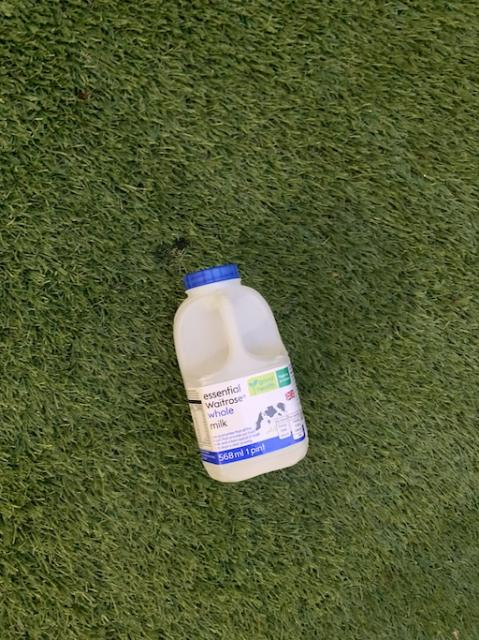plastic: (173, 263, 307, 481)
